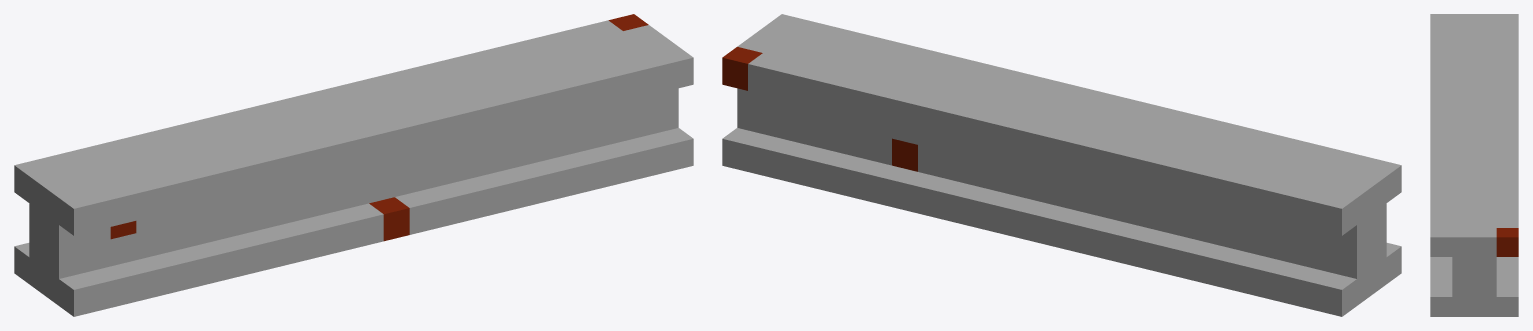
File: balka.obj
3 views of the same model, side by side, from view 1: azimuth 30°, elevation 25°; view 2: azimuth 150°, elevation 25°; view 3: azimuth 270°, elevation 25° (orthographic). The views are drawn at different scales.
Size of the model in its own units: 2.4 by 0.4 by 0.4.
Materials: 1 (1 with a texture image).
